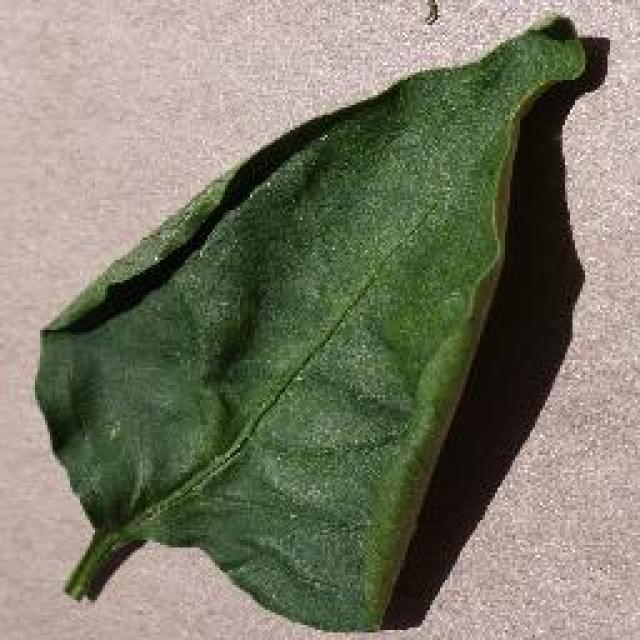Chilli_Healthy: (30, 10, 588, 632)
